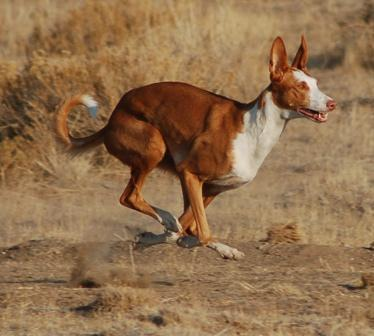Ibizan_hound: (53, 33, 337, 261)
